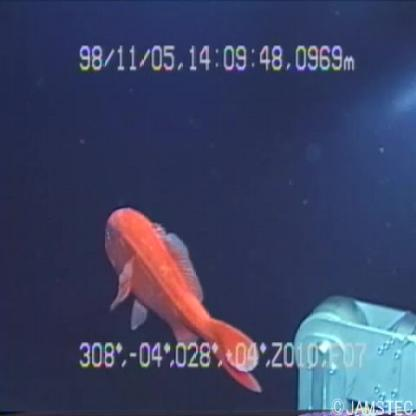Bio: (101, 202, 266, 404)
Rov: (286, 280, 416, 414)
